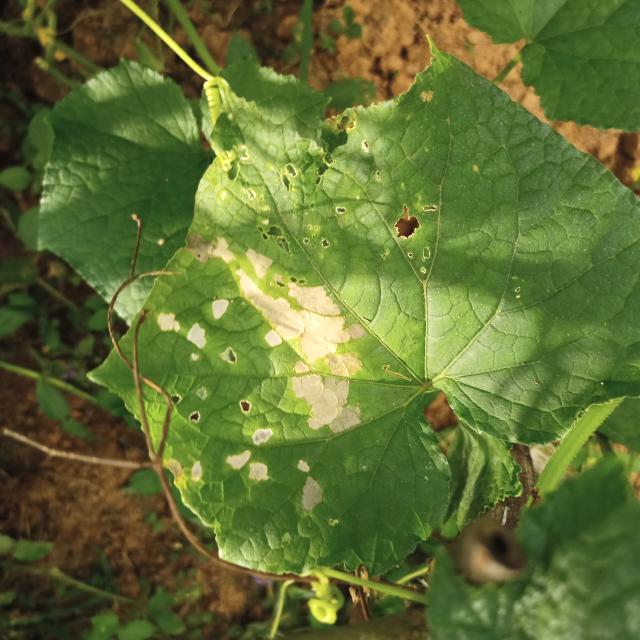disease_cucumber: (151, 232, 370, 511)
